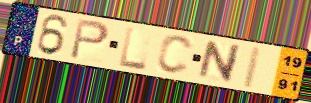6: (35, 13, 70, 57)
C: (154, 34, 196, 77)
I: (240, 45, 265, 90)
L: (118, 26, 149, 72)
N: (195, 40, 244, 85)
P: (68, 17, 111, 62)
